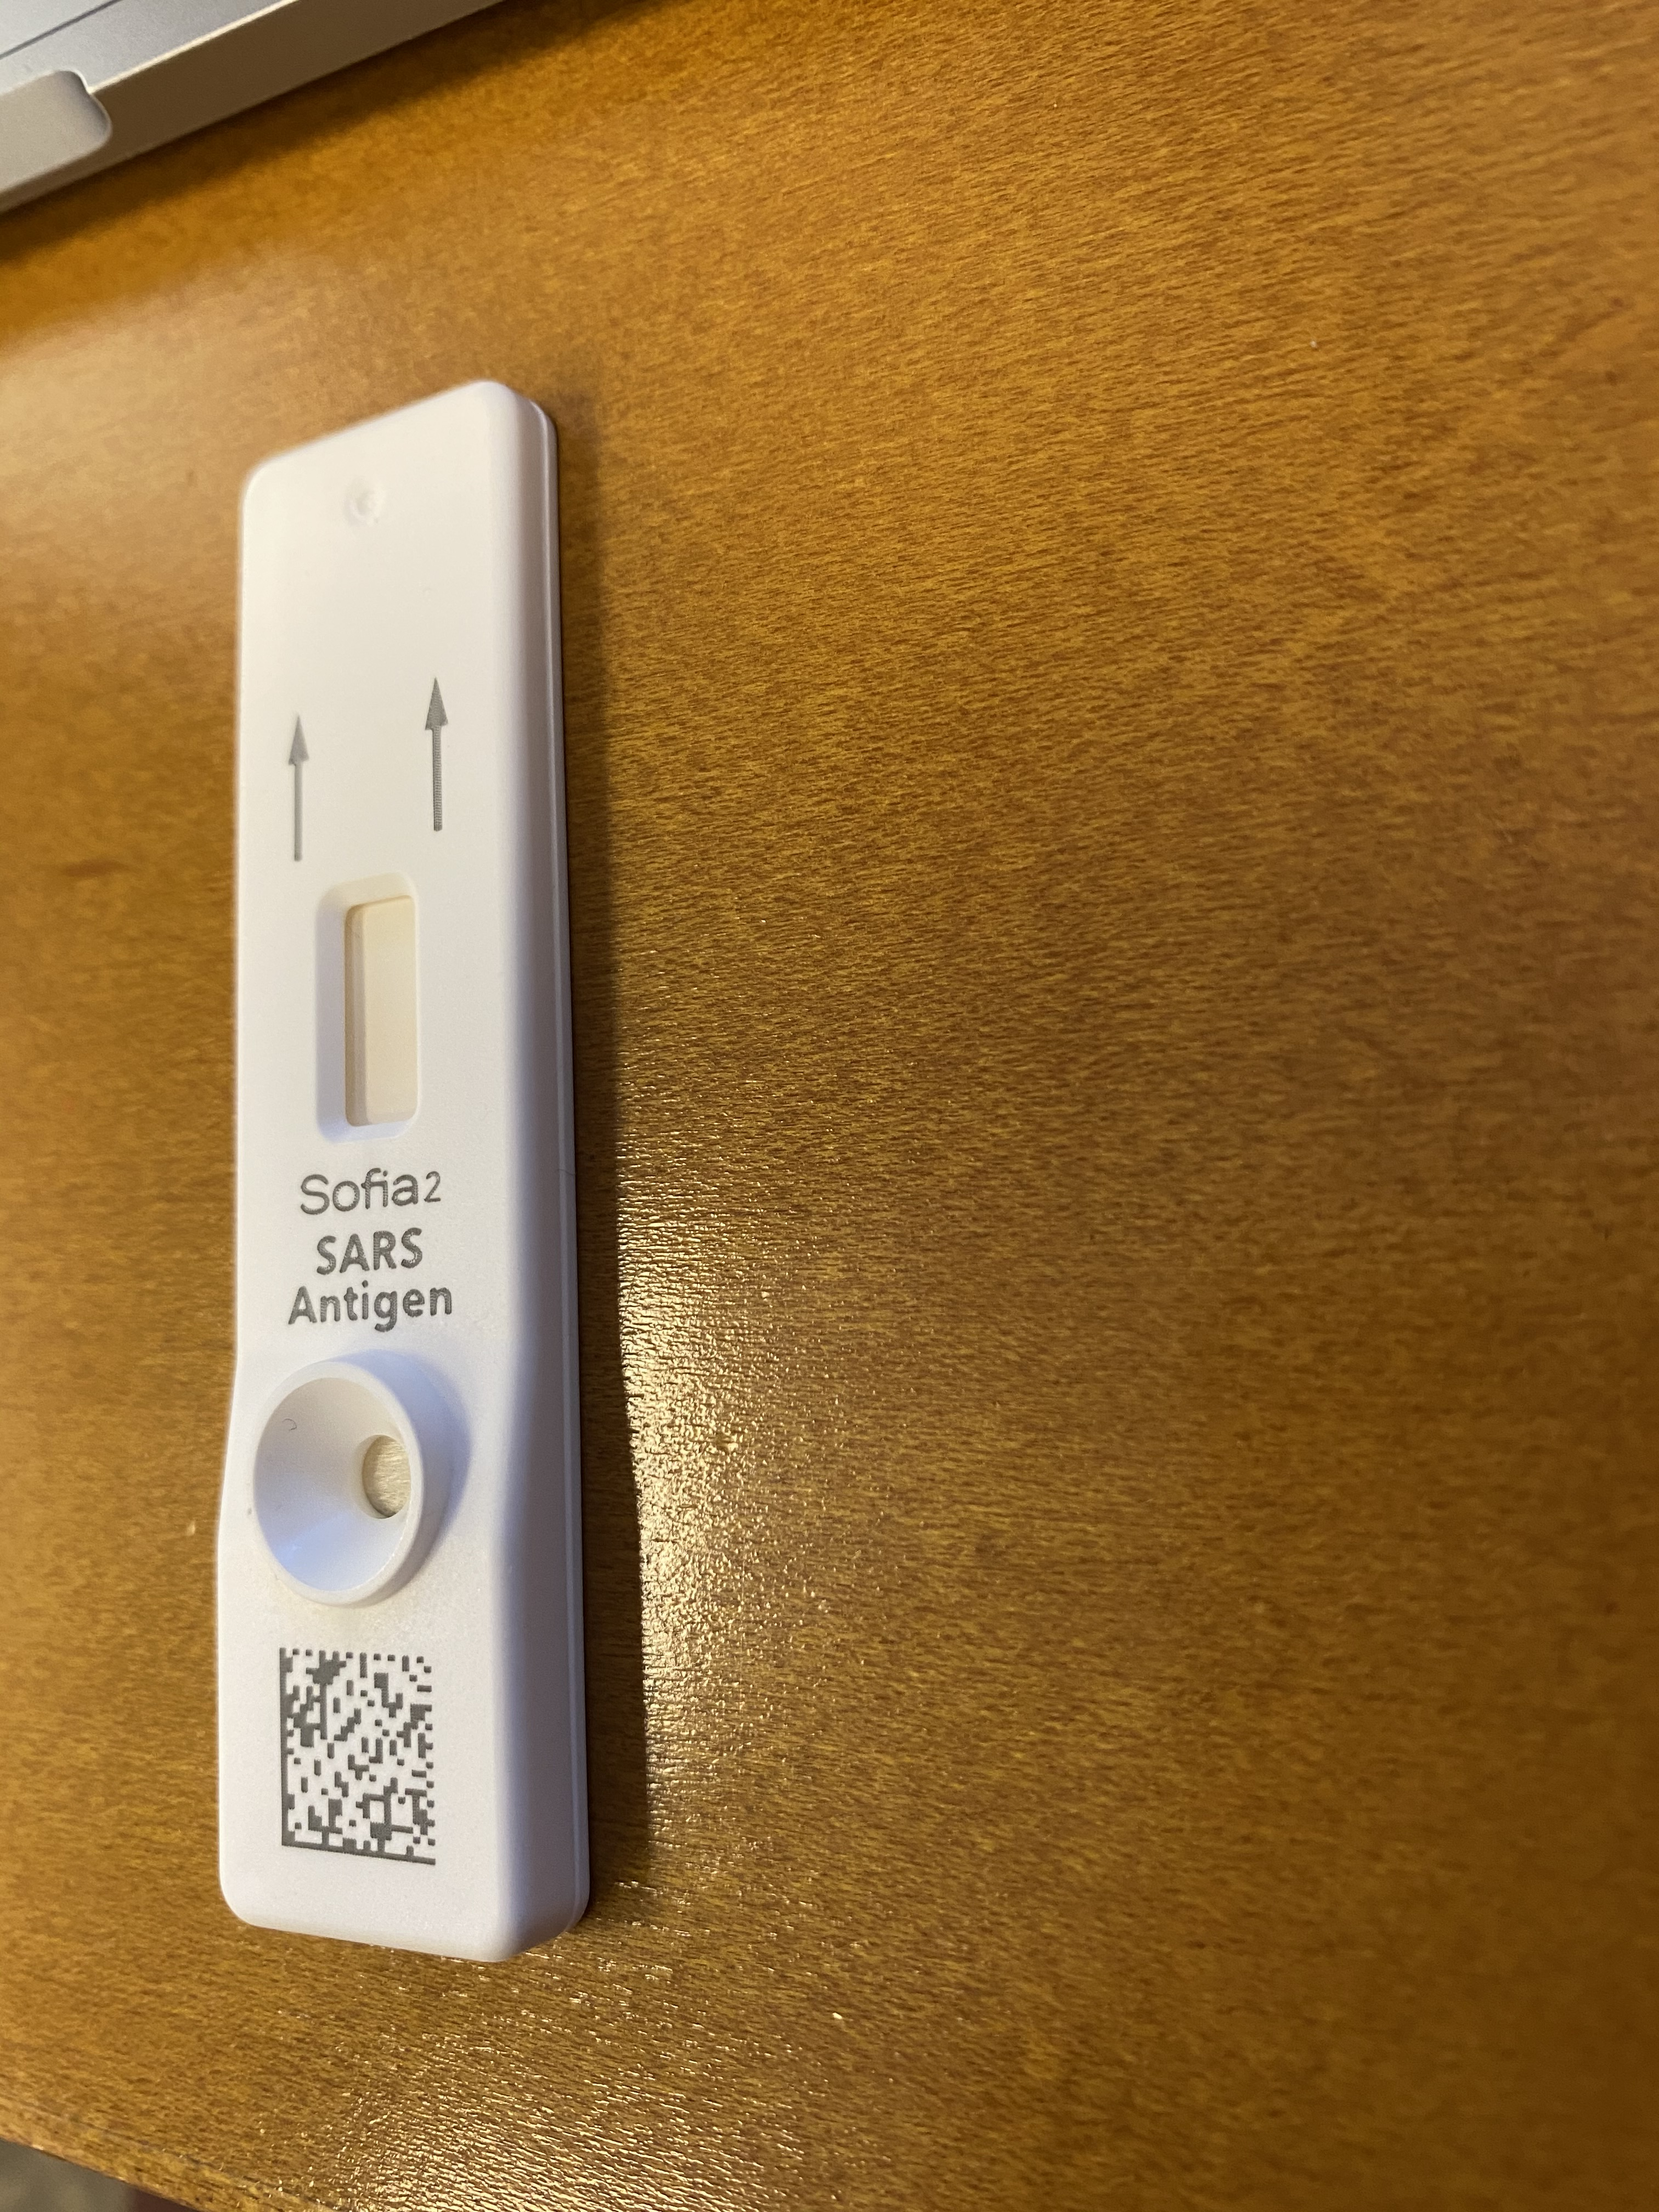quidel: (211, 374, 610, 1961)
